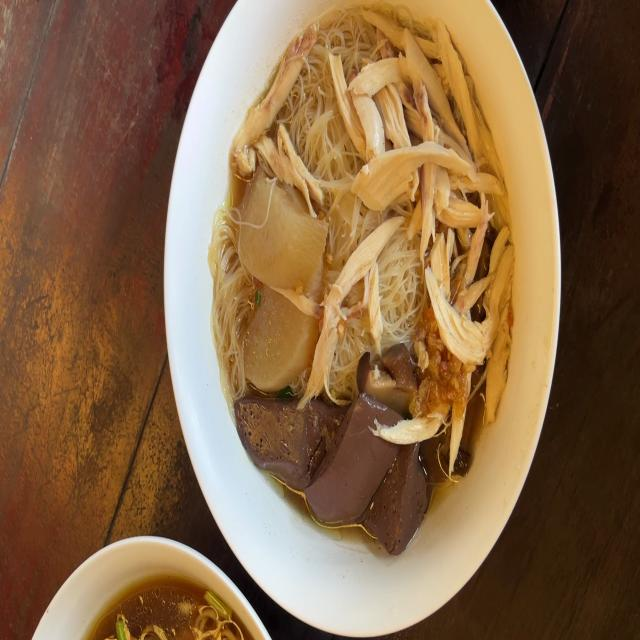noodle: (214, 0, 514, 561)
